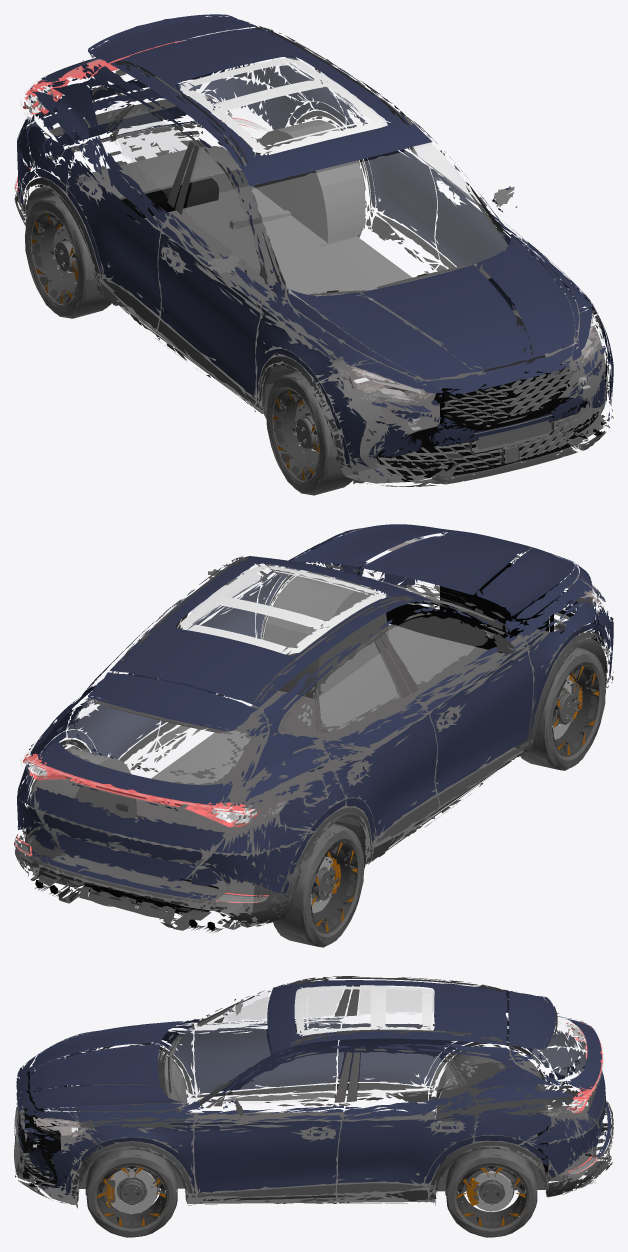
File: 2021-cupra-formentor-6c8f7e.glb
3 views of the same model, one above another, from view 1: azimuth 30°, elevation 25°; view 2: azimuth 150°, elevation 25°; view 3: azimuth 270°, elevation 25° (orthographic). The views are drawn at different scales.
Visible parts, largest first — view 1: body, wheel-front-right, wheel-back-right; view 2: body, wheel-back-right, wheel-front-right; view 3: body, wheel-front-left, wheel-back-left.
Boxes of the visible parts, x1,y1,x2,y2 form: body: [14, 14, 613, 486]; wheel-front-right: [266, 371, 352, 495]; wheel-back-right: [14, 166, 111, 318]; body: [14, 524, 613, 933]; wheel-back-right: [215, 823, 364, 947]; wheel-front-right: [516, 647, 605, 770]; body: [14, 976, 613, 1228]; wheel-front-left: [85, 1147, 177, 1237]; wheel-back-left: [445, 1147, 598, 1237].
Bounding box in the file's own units: 2.07 × 1.6 × 4.71.
